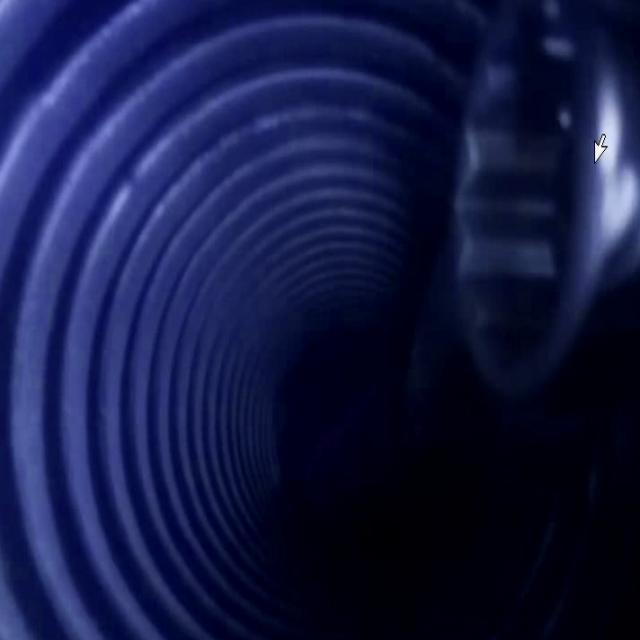metal piece: (455, 0, 640, 396)
